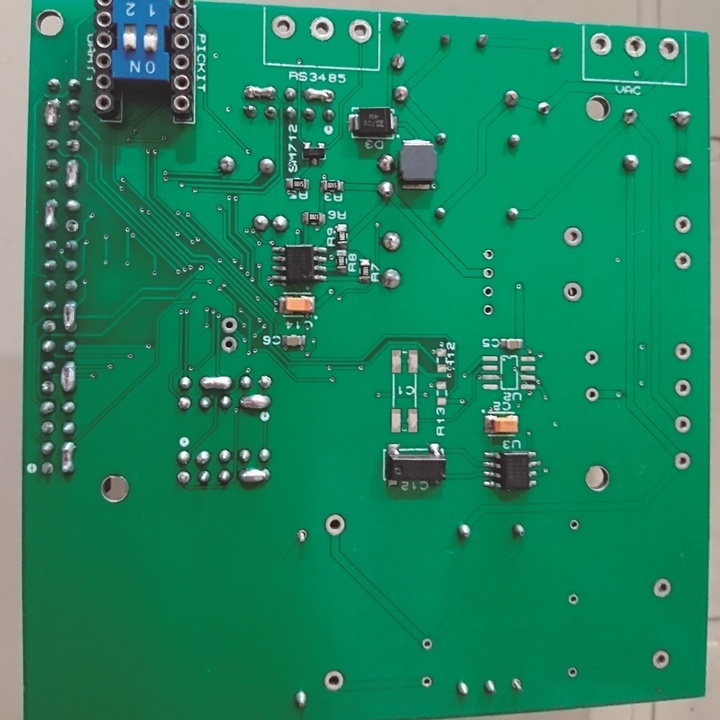F: (270, 12, 300, 42), (308, 13, 336, 45), (323, 512, 350, 543), (624, 31, 650, 62), (345, 15, 373, 43), (590, 29, 614, 61), (655, 34, 682, 62), (558, 278, 587, 303), (561, 225, 586, 248), (673, 213, 696, 237), (323, 669, 347, 692), (650, 577, 675, 599), (672, 249, 695, 271), (673, 339, 693, 364), (672, 449, 693, 471), (218, 315, 241, 335), (583, 346, 602, 369), (650, 649, 673, 666), (219, 335, 238, 355), (673, 414, 692, 433), (673, 380, 693, 398), (293, 526, 311, 546), (173, 395, 193, 413), (507, 676, 527, 693), (64, 217, 81, 237), (40, 318, 57, 336), (584, 386, 600, 405), (174, 470, 193, 486), (255, 375, 274, 391), (38, 460, 55, 477), (38, 379, 56, 395), (38, 420, 55, 436), (480, 300, 496, 316), (565, 592, 580, 609), (419, 673, 434, 690), (481, 281, 496, 298), (419, 637, 435, 652), (565, 665, 579, 680), (482, 266, 496, 281), (483, 246, 496, 262), (567, 518, 581, 532)
P: (239, 393, 274, 414), (59, 360, 78, 395), (243, 84, 279, 102), (199, 372, 233, 391), (237, 468, 272, 486), (59, 442, 78, 474), (304, 86, 336, 104), (61, 300, 78, 333), (41, 198, 59, 229), (43, 98, 61, 129), (64, 156, 80, 189)
